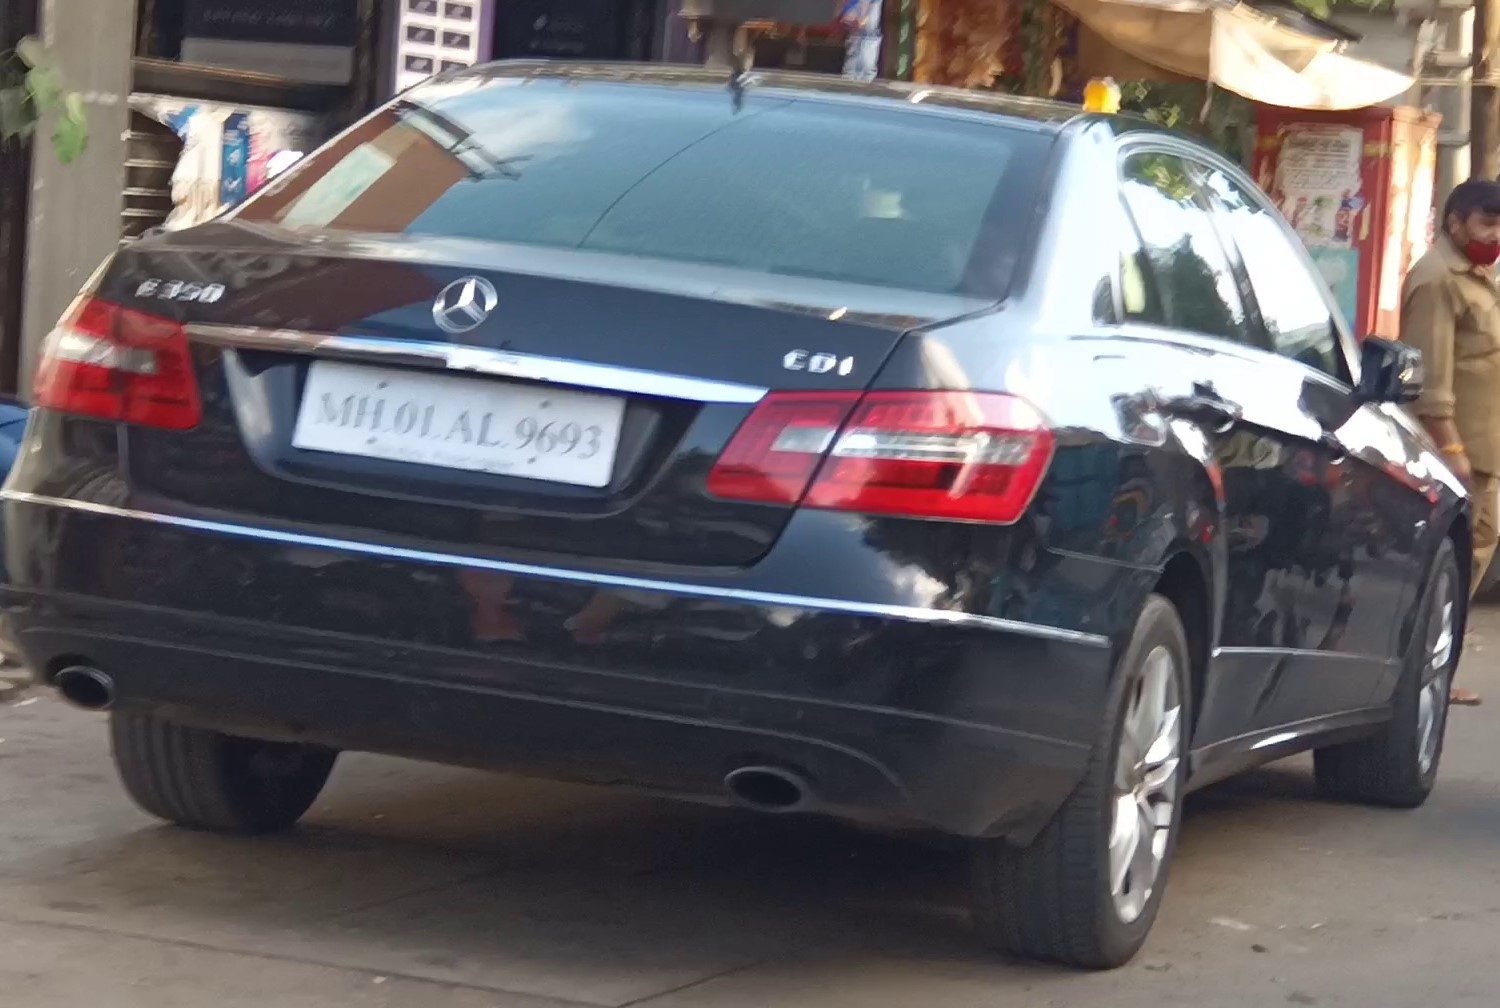MH01AL9693: (291, 362, 626, 488)
